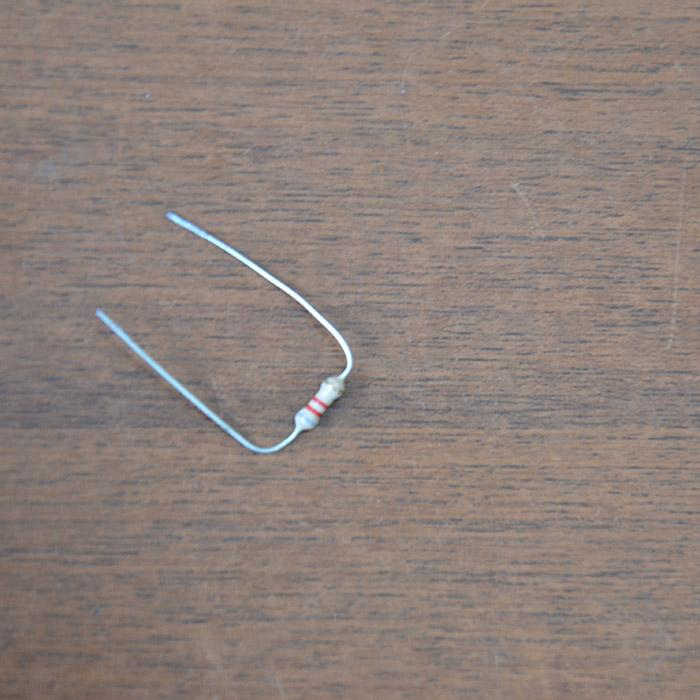resistor: (295, 375, 346, 431)
